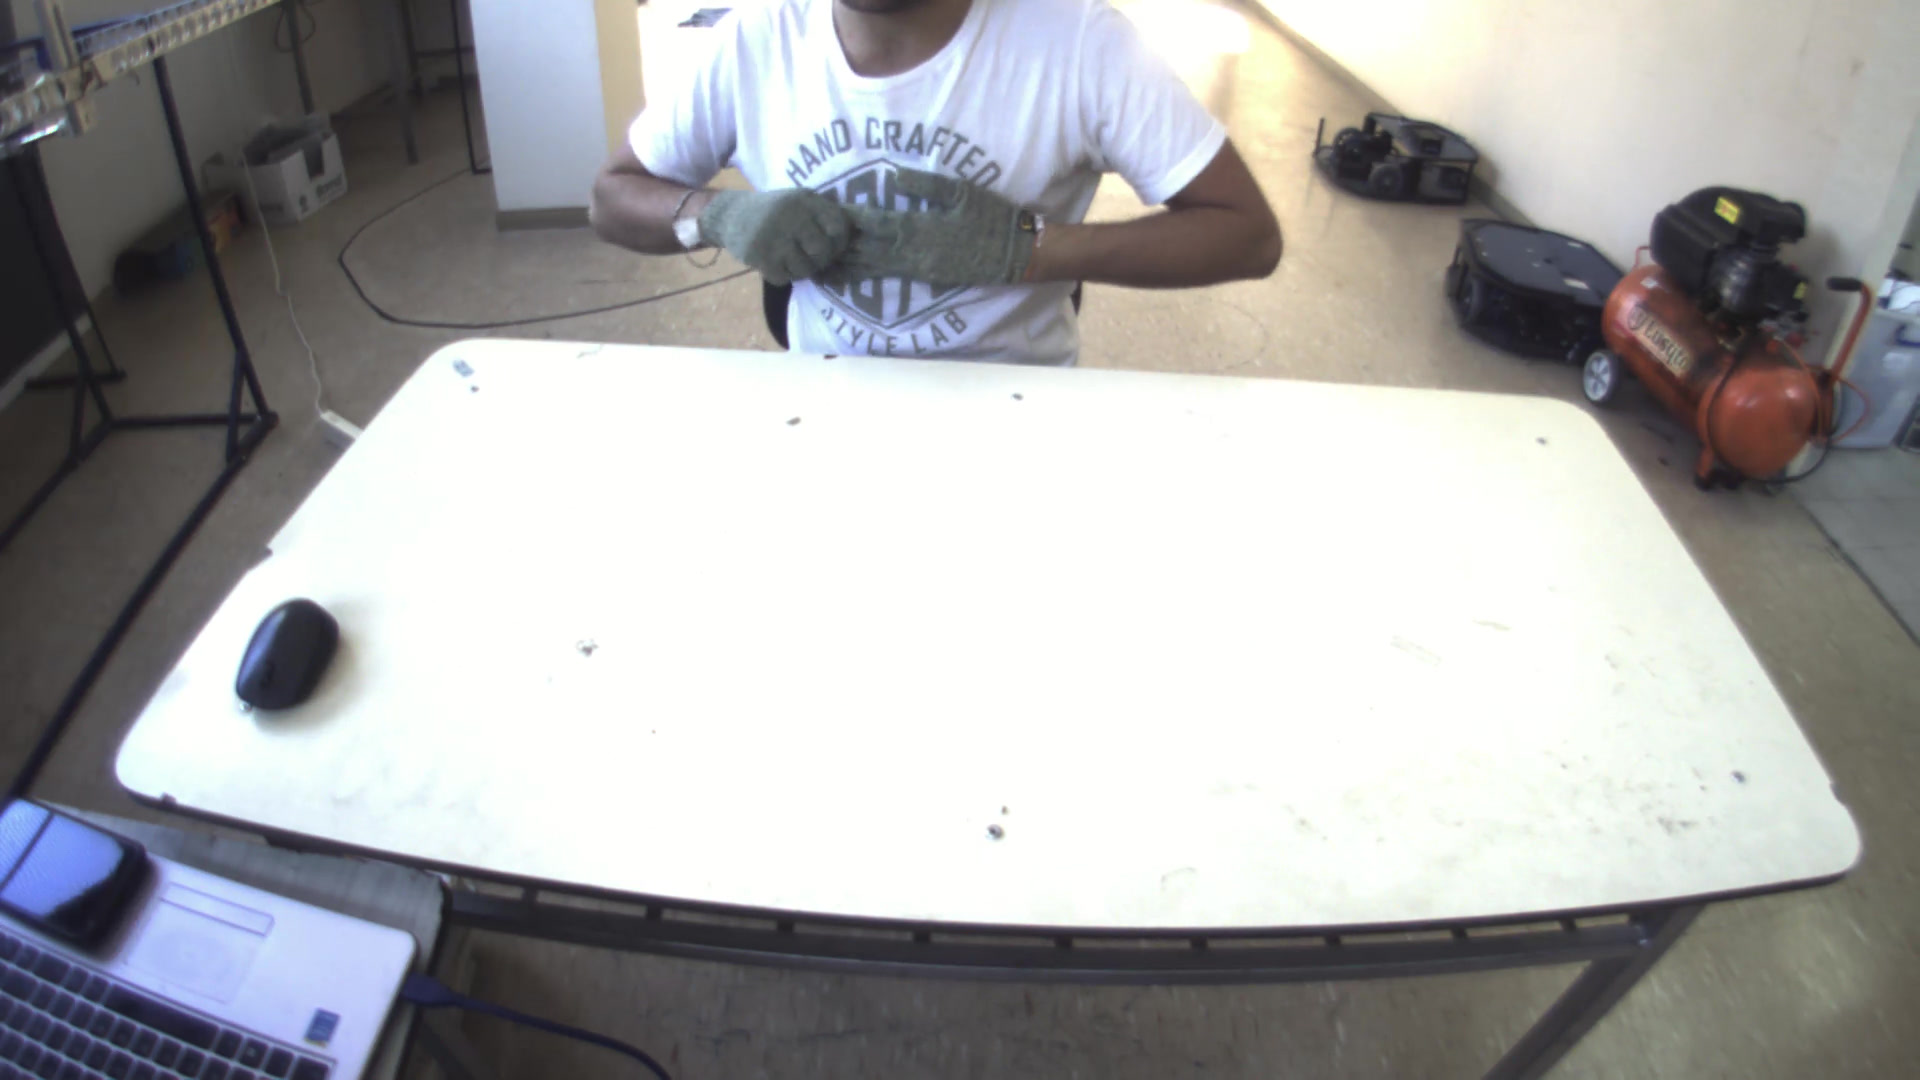hand: (837, 161, 1038, 295), (678, 167, 862, 284)
